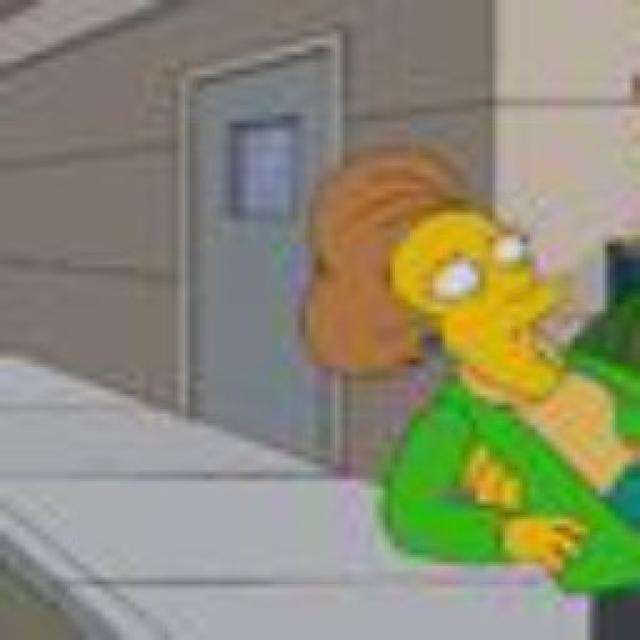Edna Krappel: (296, 148, 579, 407)
